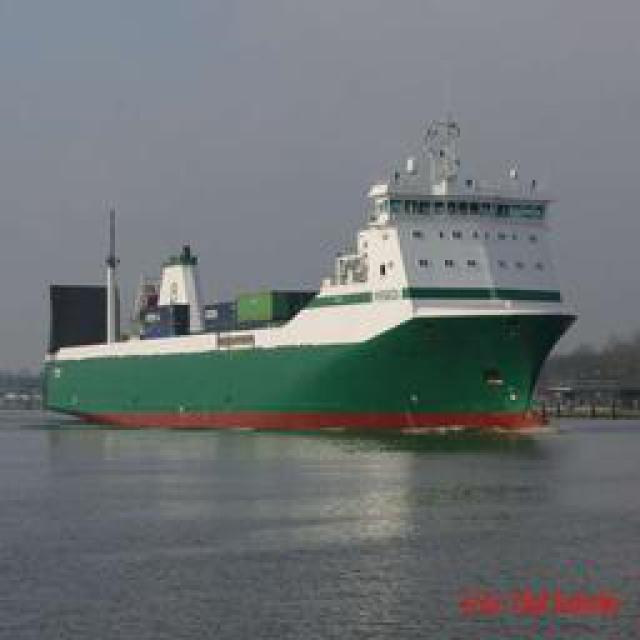Ship: (46, 108, 574, 433)
